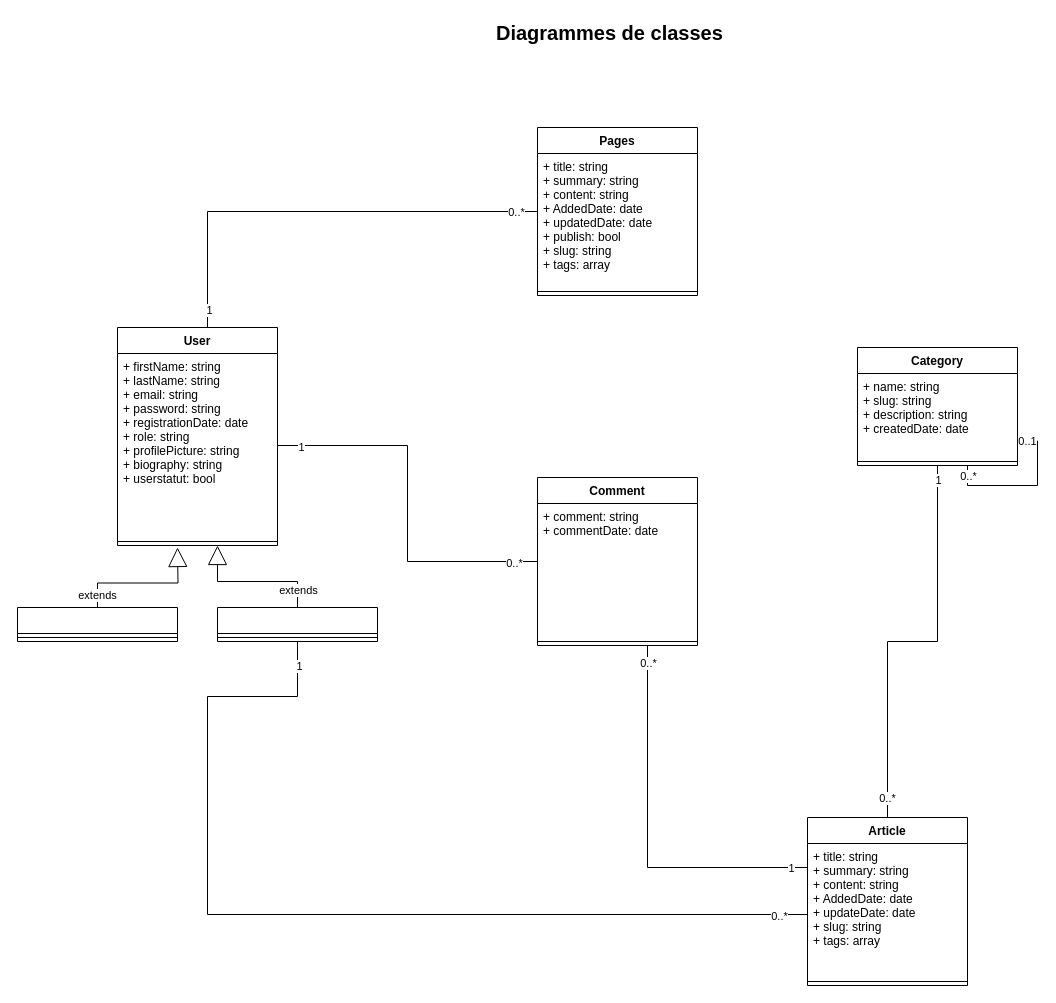
Image size: 1056x1003. Some labels were removed from this diagram. Each missing label, with the centre of its shape:
"Admin" goes at point 297,624.
"Visitor" goes at point 97,624.
